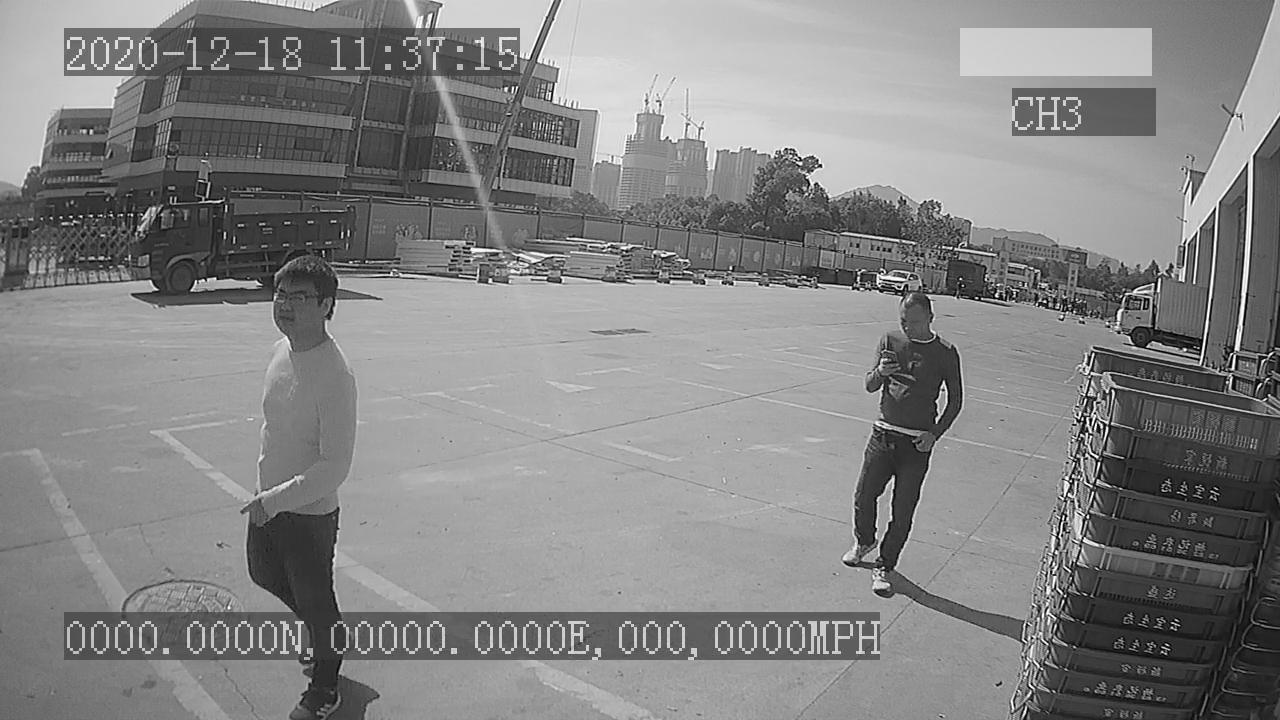person: (836, 290, 969, 594)
